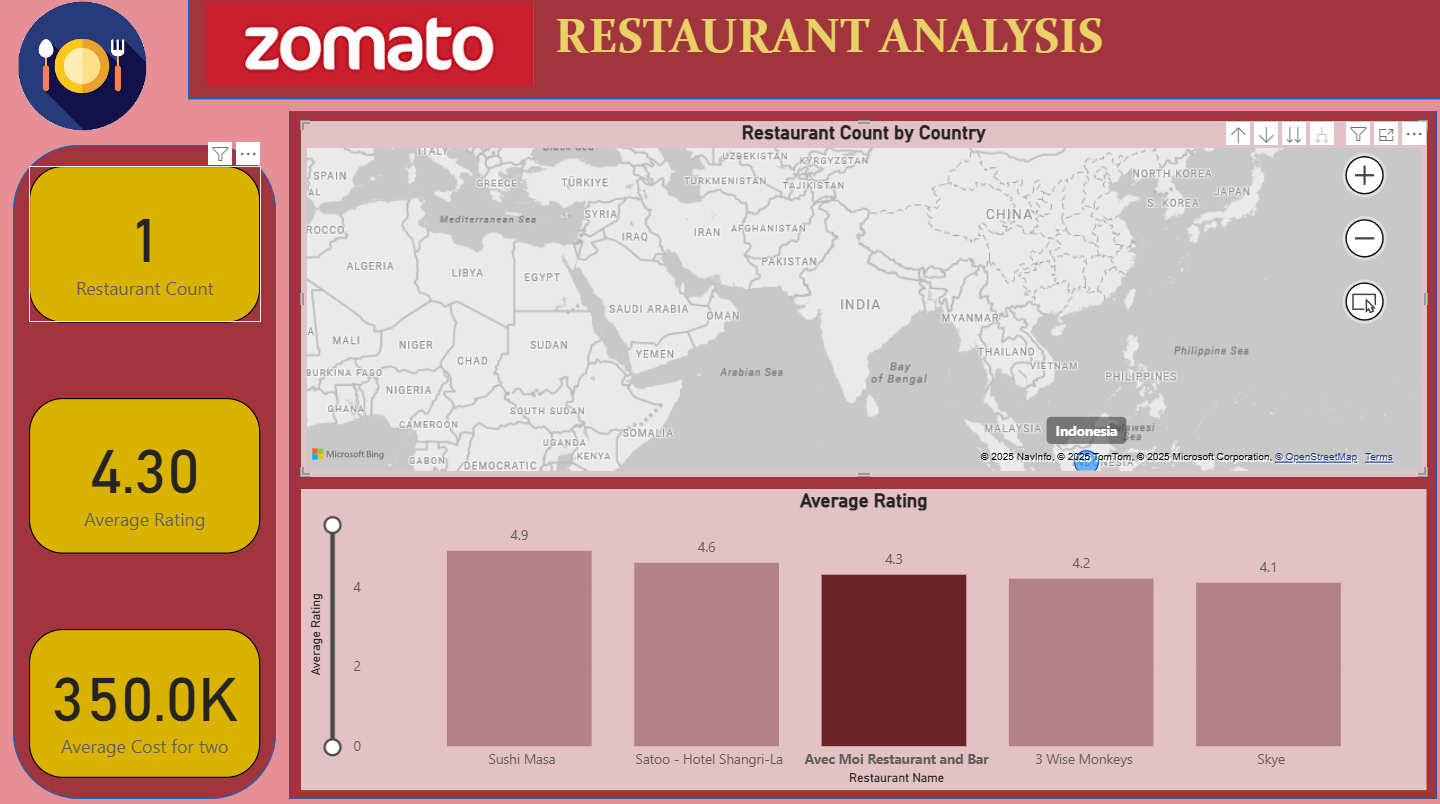

The page's visual inventory and layout, read from the dashboard file:
{"tool":"powerbi","page":{"name":"World Wide Analysis","canvas":[1280,720],"ordinal":0},"visuals":[{"type":"shape","box":[12.4,131.7,233.4,579.8],"z":0},{"type":"card","fields":{"Values":["Avg(KPIs.Average Cost for two)"]},"box":[27,561.2,205.4,131.7],"z":1000},{"type":"card","fields":{"Values":["Avg(KPIs.Aggregate rating)"]},"box":[27,356.3,205.4,138],"z":2000},{"type":"card","fields":{"Values":["Count(Combined Restaurant File.Restaurant ID)"]},"box":[27,150.4,205.4,139],"z":3000},{"type":"shape","box":[257.1,101.7,1018.3,610.4],"z":4000},{"type":"columnChart","title":"Average Rating ","fields":{"Category":["Combined Restaurant File.Restaurant Name"],"Y":["KPIs.Average Rating"]},"box":[268.1,437.3,998,267.1],"z":5000},{"type":"map","fields":{"Size":["KPIs.Restaurant Count"],"Category":["Country Master.Continent Hierarchy.Continent","Country Master.Continent Hierarchy.Country","Combined Restaurant File.City"]},"box":[268.1,110.7,998,314.9],"z":6000},{"type":"shape","box":[167.4,0,1112.6,91.6],"z":7000},{"type":"textbox","box":[487.4,3.7,500.3,77.7],"z":8000},{"type":"image","box":[178.5,0,300.6,85.1],"z":8001},{"type":"image","box":[12,0,123,123.9],"z":8002}]}

Visuals, with their boxes in screenshot pixels (x1, y1, x2, y2), scaled from the page's 1280x720 canvas onto the 1440x804 screenshot:
shape: bbox=(14, 147, 277, 795)
card - Avg(KPIs.Average Cost for two): bbox=(30, 627, 261, 774)
card - Avg(KPIs.Aggregate rating): bbox=(30, 398, 261, 552)
card - Count(Combined Restaurant File.Restaurant ID): bbox=(30, 168, 261, 323)
shape: bbox=(289, 114, 1435, 795)
"Average Rating " columnChart: bbox=(302, 488, 1424, 787)
map - KPIs.Restaurant Count x Country Master.Continent Hierarchy.Continent: bbox=(302, 124, 1424, 475)
shape: bbox=(188, 0, 1439, 102)
textbox: bbox=(548, 4, 1111, 91)
image: bbox=(201, 0, 539, 95)
image: bbox=(14, 0, 152, 138)
